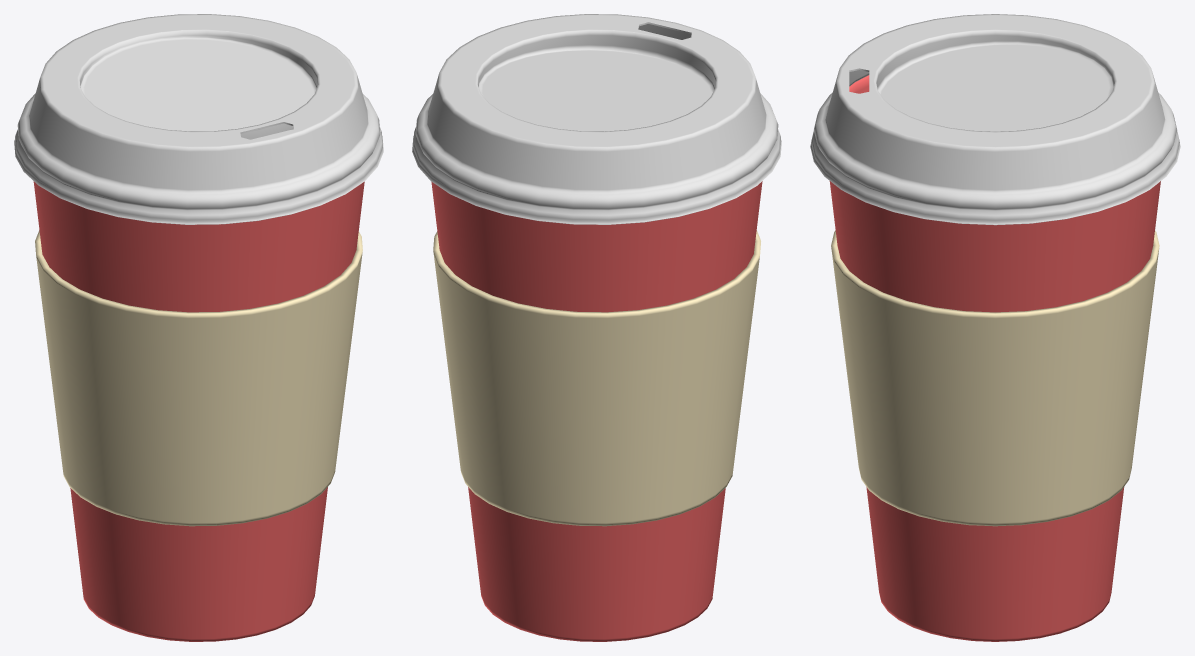
Rendered from mugModel.glb.
3 renders of one model, left to right at view 1: azimuth 30°, elevation 25°; view 2: azimuth 150°, elevation 25°; view 3: azimuth 270°, elevation 25°, orthographic.
Parts seen in each view (by area): view 1: Sleeve_2, Lid_1, Cup_0; view 2: Sleeve_2, Lid_1, Cup_0; view 3: Sleeve_2, Lid_1, Cup_0.
Part boxes in pixels (bbox=[...]): Sleeve_2: bbox=[35, 230, 362, 526]; Lid_1: bbox=[14, 14, 383, 224]; Cup_0: bbox=[33, 181, 364, 641]; Sleeve_2: bbox=[433, 230, 760, 526]; Lid_1: bbox=[412, 14, 781, 224]; Cup_0: bbox=[431, 181, 762, 641]; Sleeve_2: bbox=[831, 230, 1159, 526]; Lid_1: bbox=[810, 14, 1180, 225]; Cup_0: bbox=[829, 75, 1160, 641].
Size of the model in its own units: 0.7439 by 1.13 by 0.7439.
